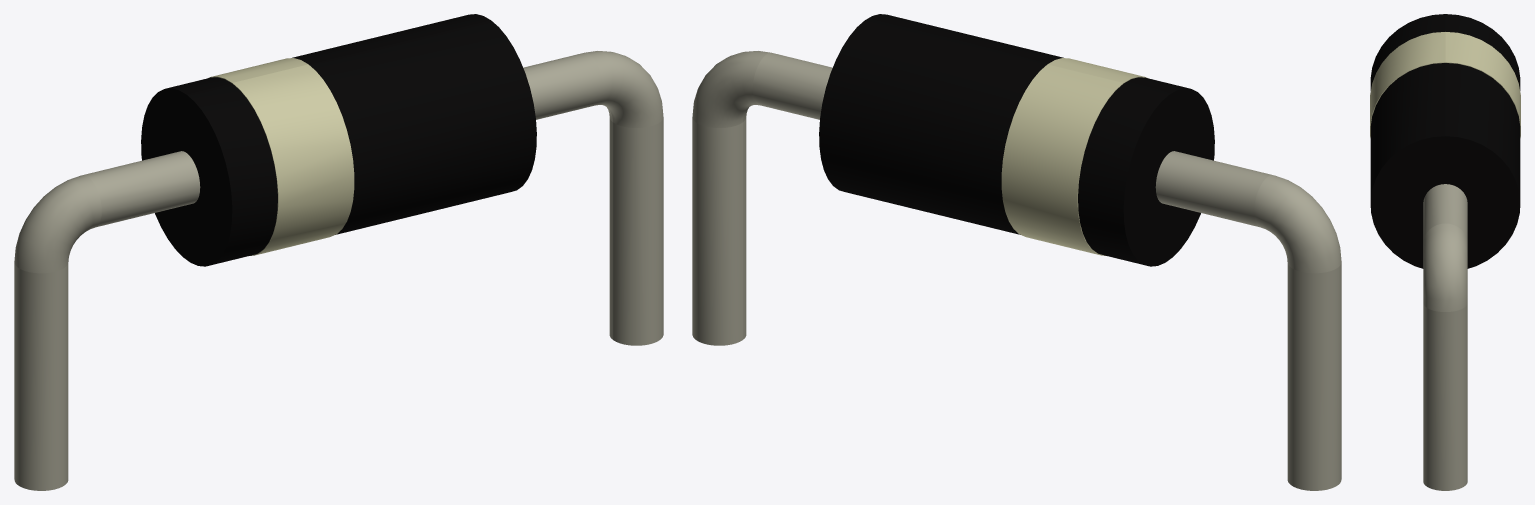
File: diode-do41.glb
The picture shows the model from 3 angles, left to right: view 1: azimuth 30°, elevation 25°; view 2: azimuth 150°, elevation 25°; view 3: azimuth 270°, elevation 25°; orthographic projection. The views are drawn at different scales.
Bounding box in the file's own units: 10.96 × 5.71 × 2.71.
